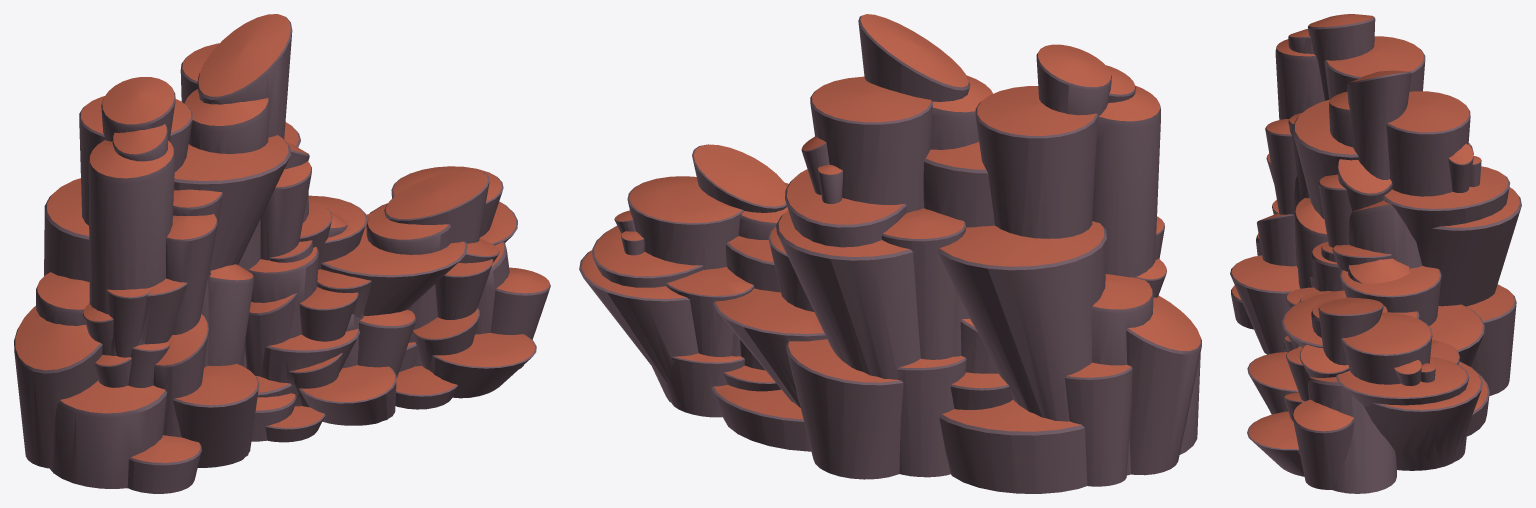
Rendered from Cliff6.fbx.
3 views of the same model, side by side, from view 1: azimuth 30°, elevation 25°; view 2: azimuth 150°, elevation 25°; view 3: azimuth 270°, elevation 25° (orthographic). The views are drawn at different scales.
Parts seen in each view (by area): view 1: Model; view 2: Model; view 3: Model.
Part boxes in pixels (x1,y1,x2,y2): Model: (14, 14, 550, 493); Model: (579, 14, 1201, 493); Model: (1230, 14, 1521, 493).
Size of the model in its own units: 10764 by 7220 by 5854.
